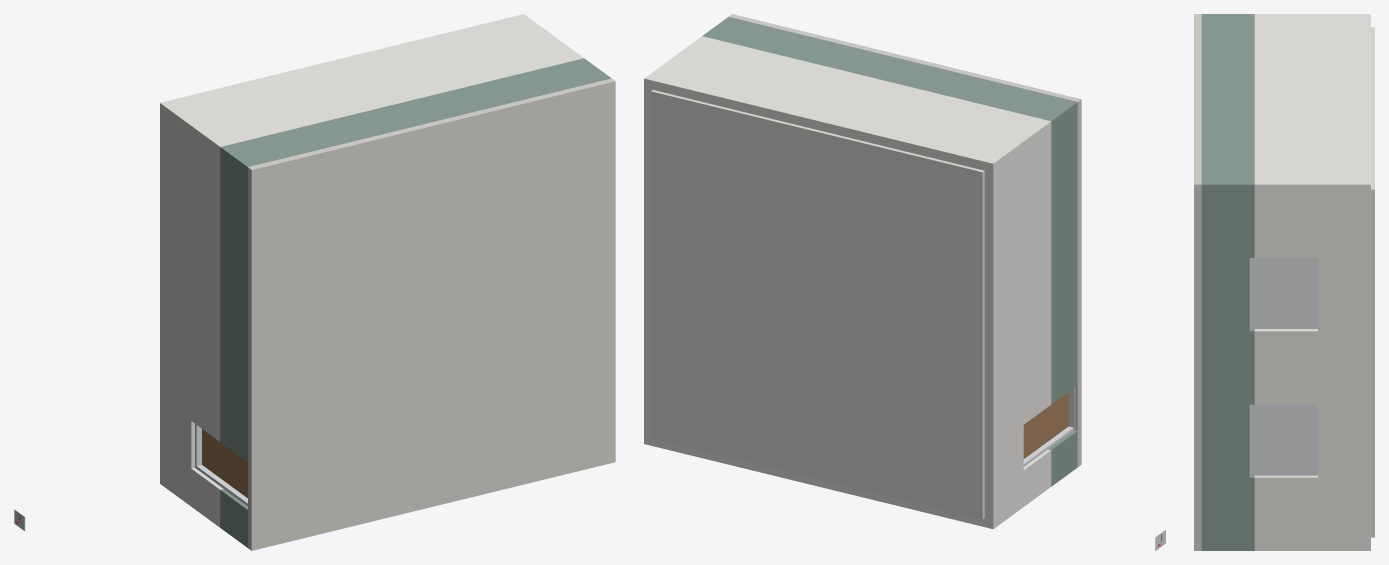
File: classroom_production.glb
3 views of the same model, side by side, from view 1: azimuth 30°, elevation 25°; view 2: azimuth 150°, elevation 25°; view 3: azimuth 270°, elevation 25° (orthographic). The views are drawn at different scales.
Parts seen in each view (by area): view 1: Classroom_Floor, Wall_South_Upper, Wall_West_Upper_2, Wall_South_Dado, Wall_West_Dado_2, Wall_West_Upper_1, Door_Leaf_Classroom, Wall_West_Door_Transom, Wall_West_Dado_1; view 2: Classroom_Ceiling, Wall_South_Upper, Wall_West_Upper_2, Wall_South_Dado, Wall_West_Dado_2, Classroom_Floor, Wall_North_Upper, Wall_West_Upper_1, Wall_West_Door_Transom, Door_Leaf_Classroom, Wall_West_Dado_1; view 3: Wall_South_Upper, Wall_South_Dado, Wall_East_Upper_2, Wall_East_Upper_1, Wall_East_Upper_3, Window_Frame_1, Window_Frame_2, Classroom_Floor, Wall_East_Dado_2, Wall_East_Lintel_1, Wall_East_Lintel_2, Wall_East_Spandrel_1 (+6 smaller).
Part boxes in pixels (<box>): Classroom_Floor: <box>248,78,615,550</box>; Wall_South_Upper: <box>160,14,583,155</box>; Wall_West_Upper_2: <box>160,112,220,441</box>; Wall_South_Dado: <box>220,58,611,176</box>; Wall_West_Dado_2: <box>220,157,247,461</box>; Wall_West_Upper_1: <box>160,446,223,517</box>; Door_Leaf_Classroom: <box>202,429,247,497</box>; Wall_West_Door_Transom: <box>160,398,194,468</box>; Wall_West_Dado_1: <box>220,489,247,538</box>; Classroom_Ceiling: <box>651,90,984,519</box>; Wall_South_Upper: <box>644,36,1051,172</box>; Wall_West_Upper_2: <box>984,131,1051,446</box>; Wall_South_Dado: <box>702,16,1077,129</box>; Wall_West_Dado_2: <box>1051,111,1077,404</box>; Classroom_Floor: <box>729,14,1081,466</box>; Wall_North_Upper: <box>644,435,1051,529</box>; Wall_West_Upper_1: <box>984,449,1051,519</box>; Wall_West_Door_Transom: <box>984,425,1023,492</box>; Door_Leaf_Classroom: <box>1023,392,1068,458</box>; Wall_West_Dado_1: <box>1048,430,1077,477</box>; Wall_South_Upper: <box>1254,14,1370,193</box>; Wall_South_Dado: <box>1201,14,1254,193</box>; Wall_East_Upper_2: <box>1254,329,1370,404</box>; Wall_East_Upper_1: <box>1254,475,1370,541</box>; Wall_East_Upper_3: <box>1254,194,1370,257</box>; Window_Frame_1: <box>1249,404,1317,475</box>; Window_Frame_2: <box>1249,258,1317,328</box>; Classroom_Floor: <box>1194,14,1201,550</box>; Wall_East_Dado_2: <box>1201,329,1254,404</box>; Wall_East_Lintel_1: <box>1318,404,1370,477</box>; Wall_East_Lintel_2: <box>1318,258,1370,331</box>; Wall_East_Spandrel_1: <box>1201,404,1249,477</box>.
Size of the model in its own units: 11.47 by 8 by 3.58.
